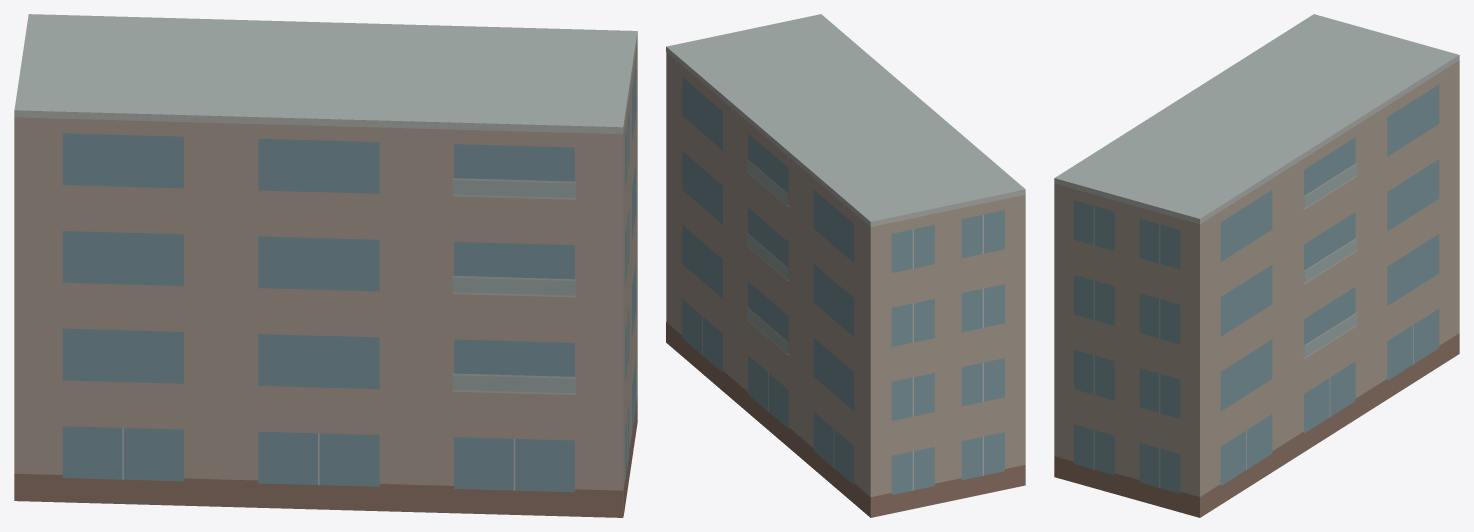
The model's file is survey-upis-32984707.glb.
The picture shows the model from 3 angles, left to right: view 1: azimuth 30°, elevation 25°; view 2: azimuth 150°, elevation 25°; view 3: azimuth 270°, elevation 25°; orthographic projection. The views are drawn at different scales.
Parts seen in each view (by area): view 1: survey-upis-32984707.tmp; view 2: survey-upis-32984707.tmp; view 3: survey-upis-32984707.tmp.
Boxes of the visible parts, x1,y1,x2,y2 form: survey-upis-32984707.tmp: [14, 14, 637, 517]; survey-upis-32984707.tmp: [666, 14, 1025, 517]; survey-upis-32984707.tmp: [1054, 14, 1459, 517].
Bounding box in the file's own units: 20.12 × 13.68 × 16.81.
